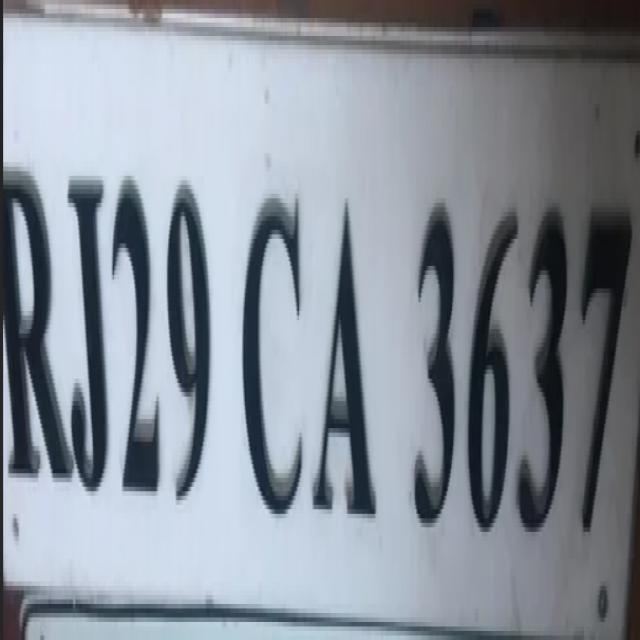3: (514, 183, 573, 544), (407, 181, 458, 535)
6: (465, 179, 522, 535)
7: (572, 170, 635, 535)
9: (159, 151, 219, 512)
A: (310, 164, 381, 533)
C: (235, 162, 309, 525)
J: (56, 160, 111, 508)
R: (0, 130, 74, 508)
